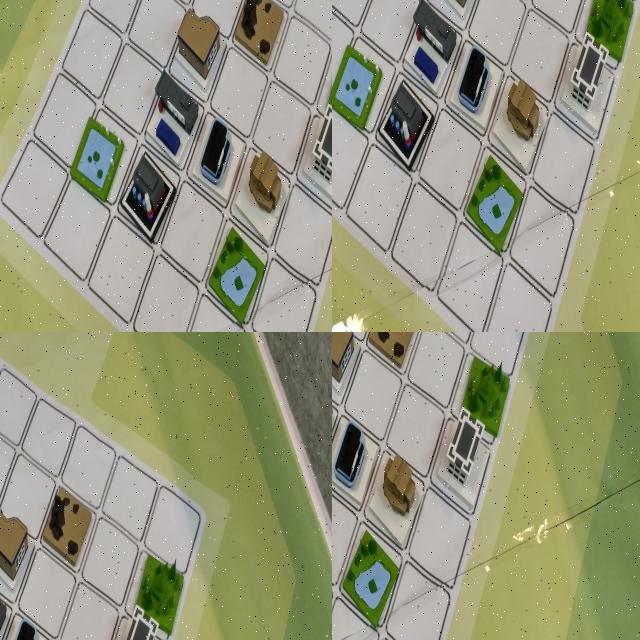bus_stop: (122, 41, 173, 127), (418, 0, 487, 57), (332, 370, 359, 472), (0, 539, 27, 636)
factory: (485, 155, 557, 283), (95, 241, 151, 332), (332, 453, 362, 548)
fish_pool: (204, 199, 254, 293), (71, 543, 123, 618), (575, 0, 640, 56), (332, 419, 358, 505)
forest: (404, 178, 477, 302), (461, 349, 515, 441), (107, 0, 156, 39), (0, 446, 23, 512)
gogo_shop: (412, 34, 480, 150), (332, 412, 378, 508), (146, 110, 200, 191), (25, 607, 79, 640)
research_build: (436, 406, 493, 511), (58, 448, 112, 535), (242, 146, 294, 234), (492, 0, 558, 57)
restaurant: (492, 12, 564, 134), (87, 84, 135, 174), (332, 332, 358, 389)
silicate_rock: (444, 246, 517, 332), (365, 332, 420, 378), (186, 0, 237, 42), (0, 428, 25, 504)
volunteer_center: (332, 153, 383, 274), (369, 439, 422, 542), (184, 52, 237, 141), (0, 473, 25, 556)
wet_land: (332, 38, 405, 159), (340, 528, 400, 626), (225, 292, 278, 332), (0, 398, 19, 456)
